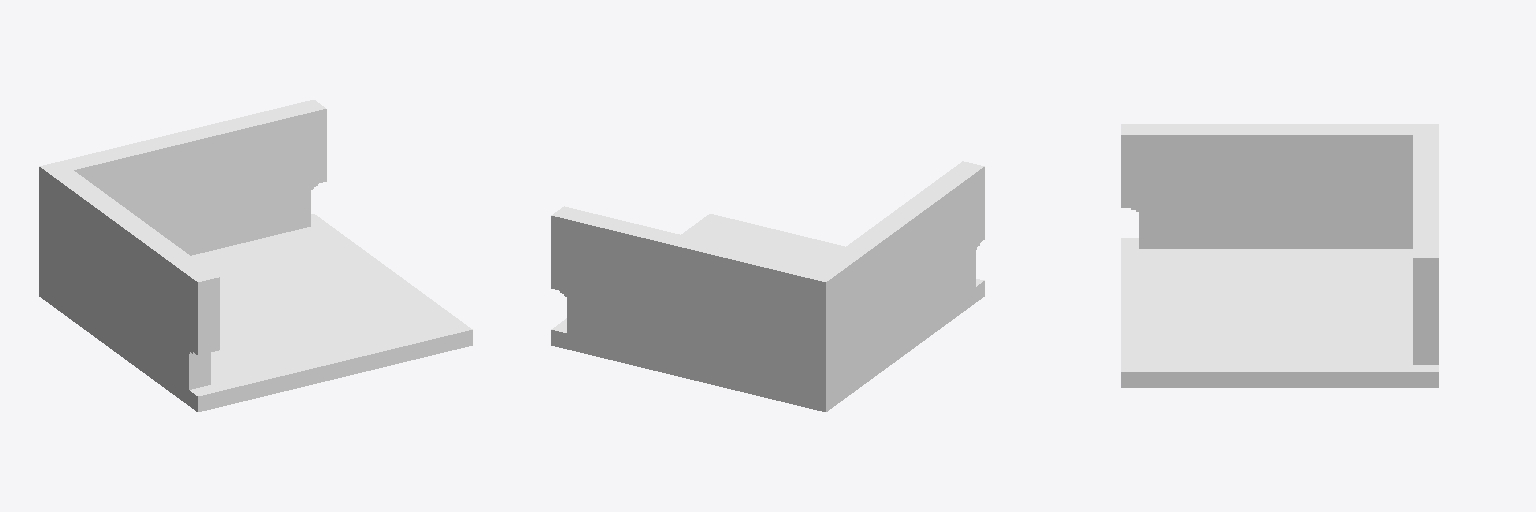
The model's file is PlcehldRoom2-0.obj.
3 renders of one model, left to right at view 1: azimuth 30°, elevation 25°; view 2: azimuth 150°, elevation 25°; view 3: azimuth 270°, elevation 25°, orthographic.
Visible parts, largest first — view 1: object 1; view 2: object 1; view 3: object 1.
Part boxes in pixels (x1,y1,x2,y2): object 1: (39, 100, 472, 411); object 1: (551, 161, 984, 411); object 1: (1121, 124, 1438, 387).
Size of the model in its own units: 12.6 by 5.7 by 12.6.